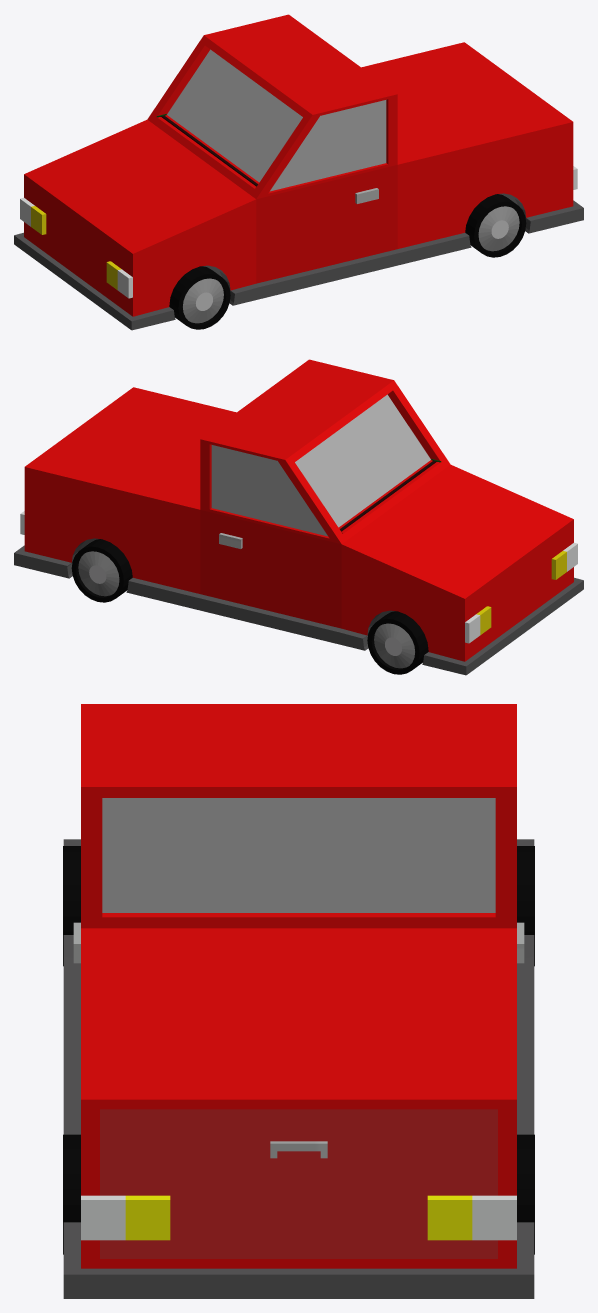
Rendered from Blue_car.fbx.
3 renders of one model, top to bottom at view 1: azimuth 30°, elevation 25°; view 2: azimuth 150°, elevation 25°; view 3: azimuth 270°, elevation 25°, orthographic. The views are drawn at different scales.
Visible parts, largest first — view 1: Car; view 2: Car; view 3: Car.
Boxes of the visible parts, bbox=[...] form: Car: bbox=[14, 14, 583, 330]; Car: bbox=[14, 359, 583, 675]; Car: bbox=[63, 704, 534, 1298].
Bounding box in the file's own units: 479 × 186 × 217.
